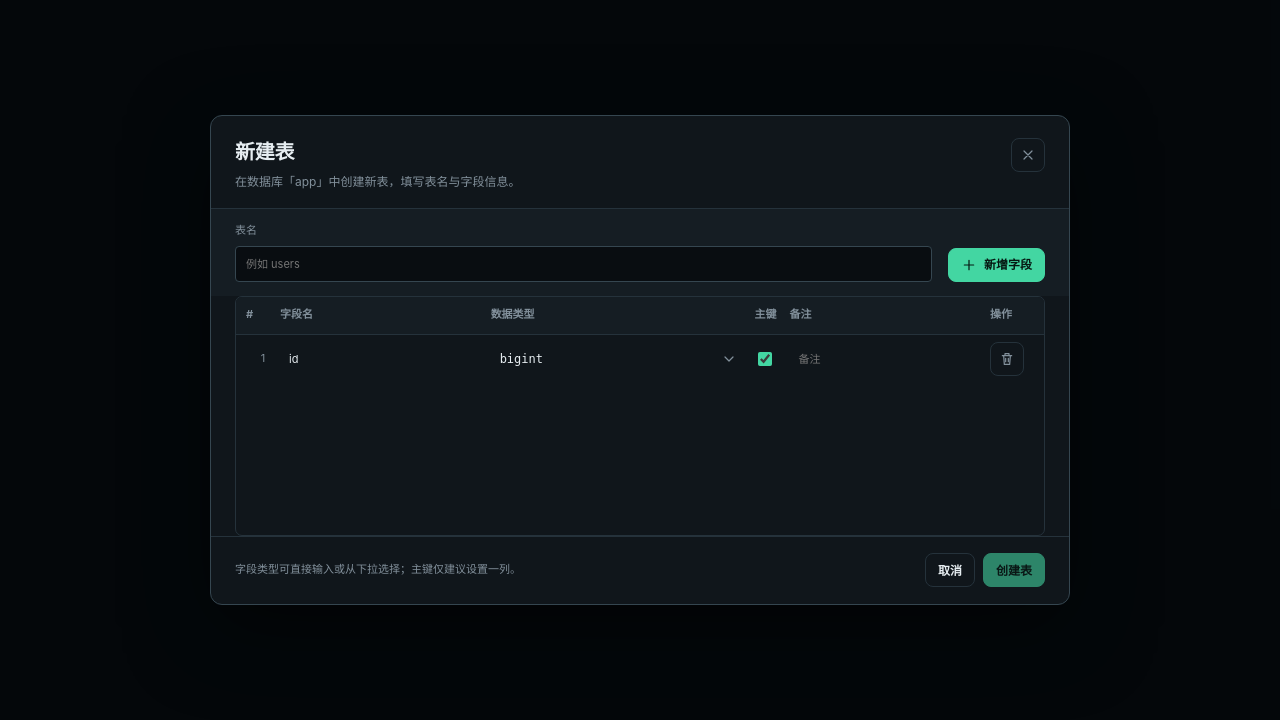
shows validation error for invalid table name
The width and height of the screenshot is (1280, 720).
In the field labelled "表名": point(584, 264) [235,246,932,282], type "1bad"
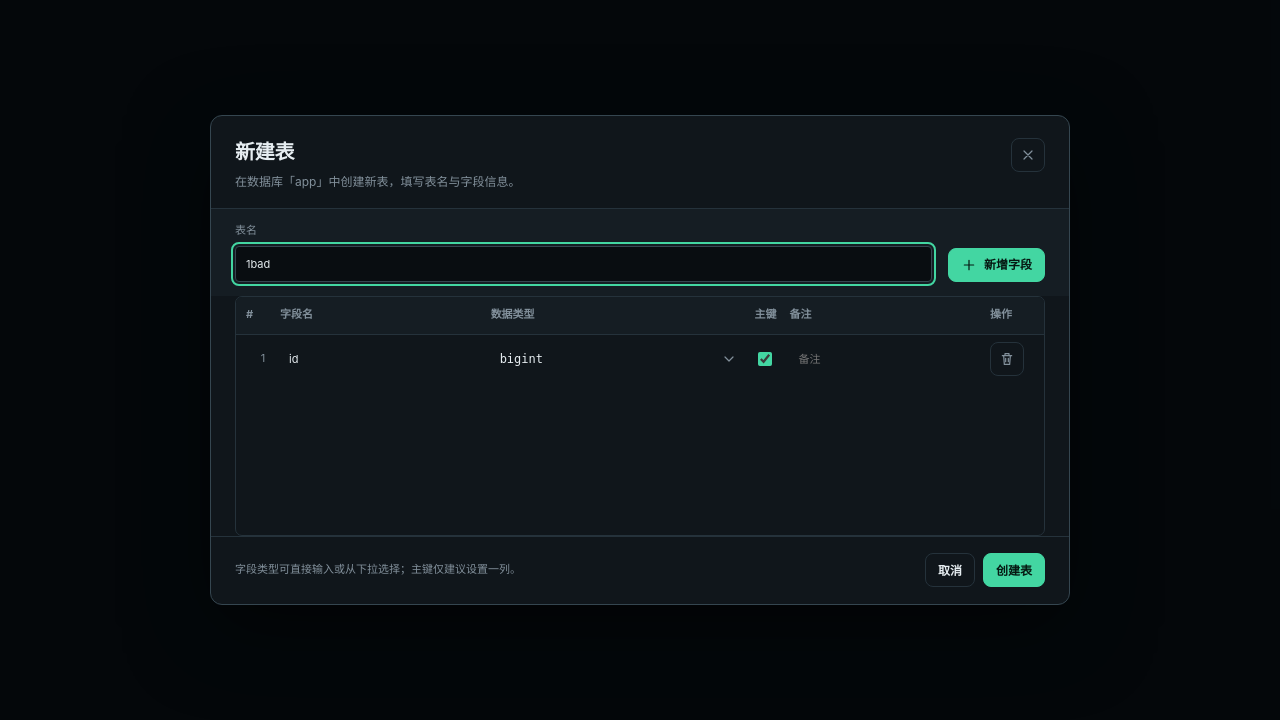
Click the button "创建表": point(1014, 570) [983,553,1045,587]
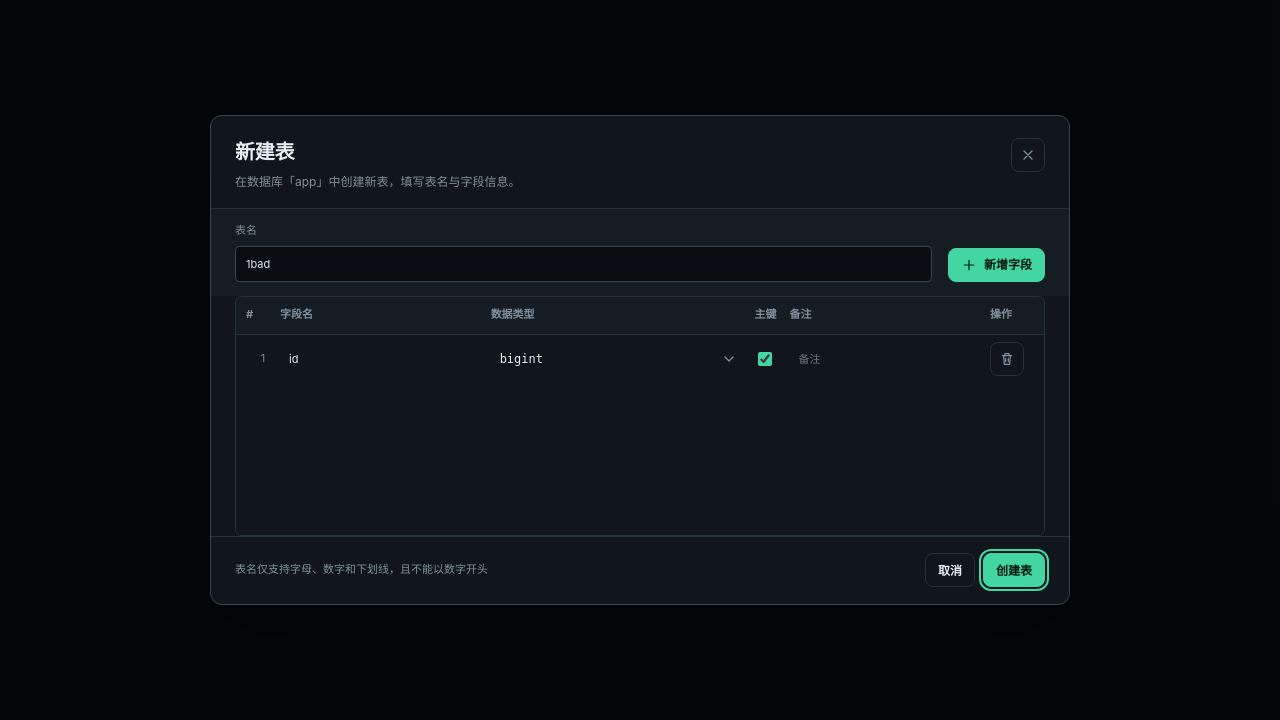
expect the text "表名仅支持字母、数字和下划线，且不能以数字开头" is shown: met, box [235,562,488,578]
